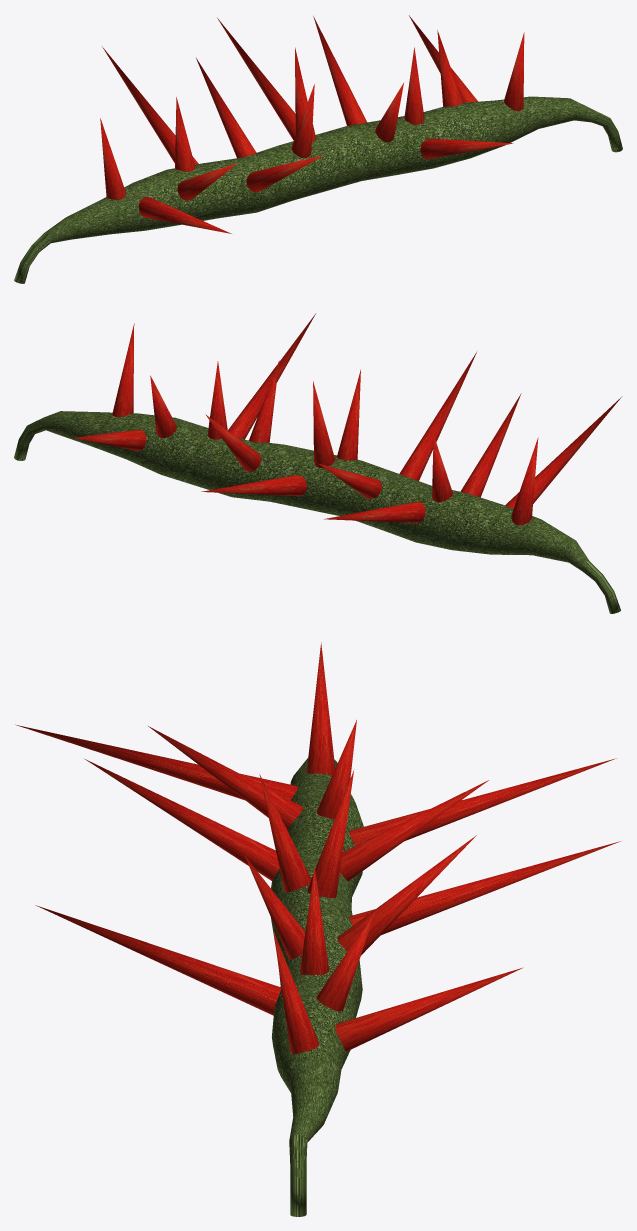
Rendered from SpikyStem1.fbx.
The picture shows the model from 3 angles, top to bottom: view 1: azimuth 30°, elevation 25°; view 2: azimuth 150°, elevation 25°; view 3: azimuth 270°, elevation 25°; orthographic projection. The views are drawn at different scales.
Parts seen in each view (by area): view 1: Cylinder, Cone.010, Cone.009, Cone.006, Cone.004, Cone.001, Cone.012, Cone.005, Cone, Cone.015, Cone.016, Cone.007 (+6 smaller); view 2: Cylinder, Cone.005, Cone.012, Cone.001, Cone.009, Cone.002, Cone.004, Cone.015, Cone, Cone.007, Cone.008, Cone.011 (+6 smaller); view 3: Cylinder, Cone.012, Cone.005, Cone.009, Cone.014, Cone.001, Cone.004, Cone.006, Cone.002, Cone.010, Cone, Cone.015 (+6 smaller).
Boxes of the visible parts, x1,y1,x2,y2 form: Cylinder: [14, 96, 622, 283]; Cone.010: [313, 16, 367, 125]; Cone.009: [217, 18, 295, 140]; Cone.006: [196, 58, 256, 158]; Cone.004: [102, 46, 198, 164]; Cone.001: [138, 197, 231, 233]; Cone.012: [420, 138, 513, 159]; Cone.005: [246, 155, 323, 192]; Cone: [100, 118, 125, 199]; Cone.015: [504, 32, 524, 111]; Cone.016: [404, 47, 424, 124]; Cone.007: [291, 84, 314, 158]; Cylinder: [14, 411, 620, 613]; Cone.005: [399, 352, 476, 480]; Cone.012: [228, 313, 315, 439]; Cone.001: [505, 396, 622, 508]; Cone.009: [201, 475, 306, 496]; Cone.002: [460, 393, 521, 497]; Cone.004: [324, 501, 425, 522]; Cone.015: [112, 323, 134, 416]; Cone: [511, 437, 538, 525]; Cone.007: [337, 369, 360, 460]; Cone.008: [313, 381, 334, 468]; Cone.011: [249, 360, 279, 442]; Cylinder: [271, 758, 363, 1216]; Cone.012: [35, 905, 281, 1015]; Cone.005: [85, 759, 279, 880]; Cone.009: [349, 841, 620, 935]; Cone.014: [335, 967, 523, 1051]; Cone.001: [15, 724, 297, 800]; Cone.004: [349, 758, 616, 845]; Cone.006: [340, 780, 488, 881]; Cone.002: [148, 726, 302, 829]; Cone.010: [337, 835, 476, 955]; Cone: [306, 642, 335, 775]; Cone.015: [273, 930, 318, 1054].
Size of the model in its own units: 635 by 167 by 391.
Materials: 2 (2 with a texture image).
